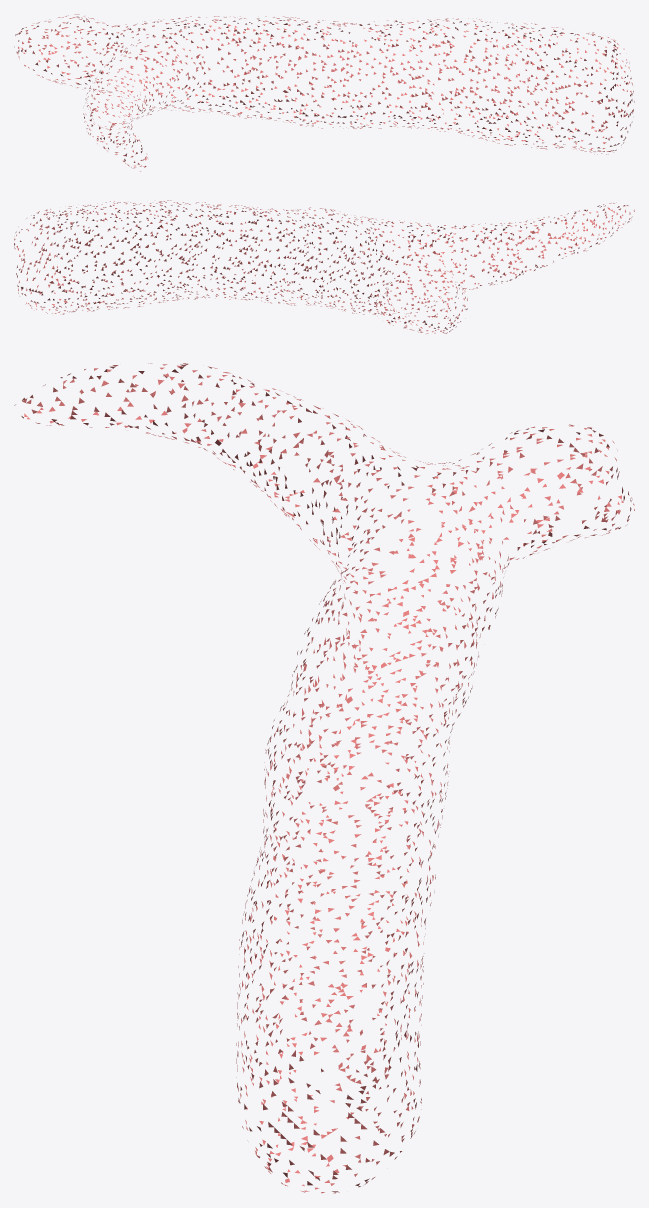
File: morph_000.glb
The picture shows the model from 3 angles, top to bottom: view 1: azimuth 30°, elevation 25°; view 2: azimuth 150°, elevation 25°; view 3: azimuth 270°, elevation 25°; orthographic projection. The views are drawn at different scales.
Size of the model in its own units: 132 by 44.47 by 68.83.
